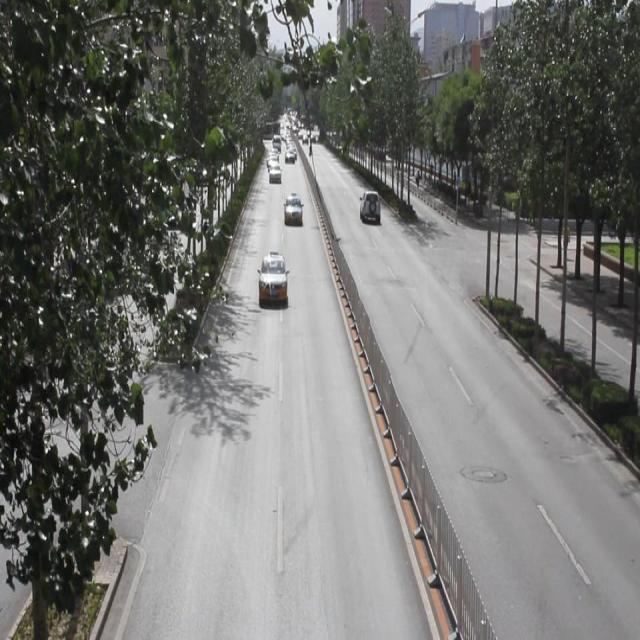car: (258, 254, 288, 306), (360, 191, 380, 223), (284, 194, 301, 226)
